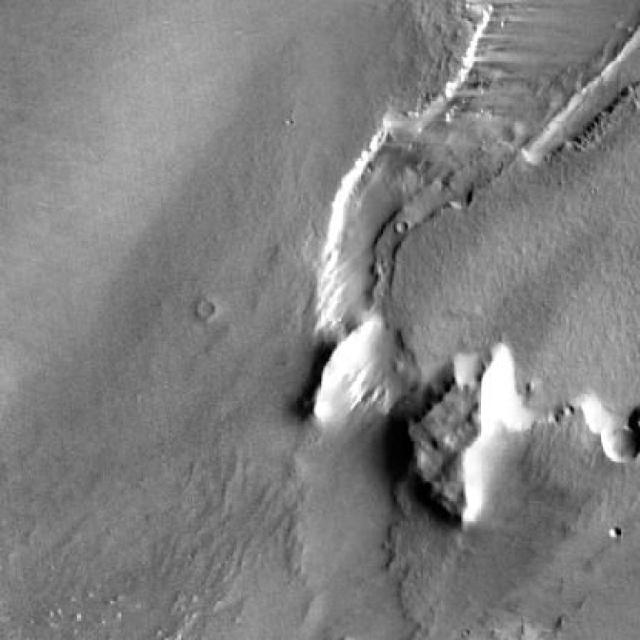crater: (597, 418, 640, 462), (199, 303, 216, 320)
